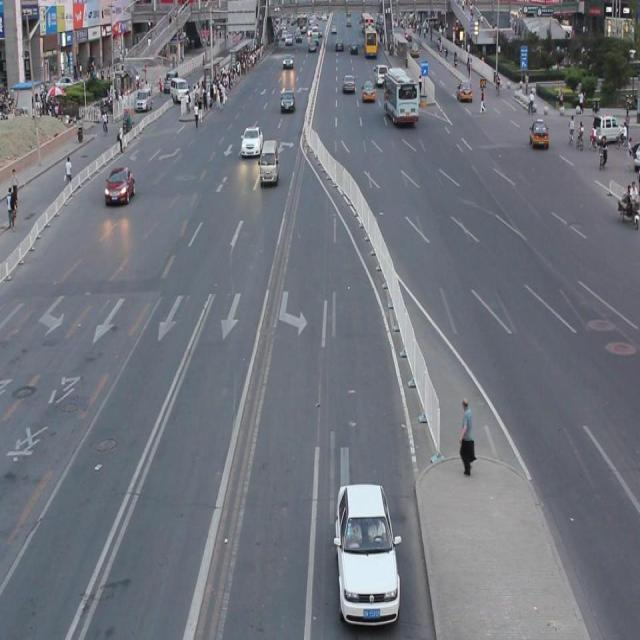car: (336, 479, 400, 623), (104, 165, 136, 205)
